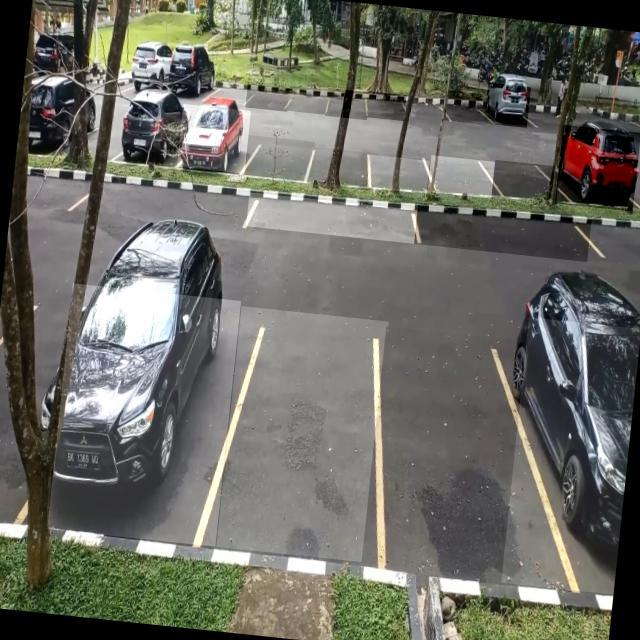empty: (216, 306, 388, 562), (361, 326, 524, 577), (413, 202, 591, 262), (245, 192, 418, 244), (243, 134, 314, 182), (427, 154, 495, 198), (308, 146, 370, 187), (492, 160, 554, 200), (366, 154, 429, 193), (442, 90, 487, 124), (324, 88, 370, 120), (245, 82, 289, 111), (286, 86, 330, 114), (365, 90, 406, 120)
occupied: (46, 283, 240, 546), (500, 317, 640, 594), (554, 124, 640, 210), (177, 104, 250, 174), (484, 82, 530, 128)
